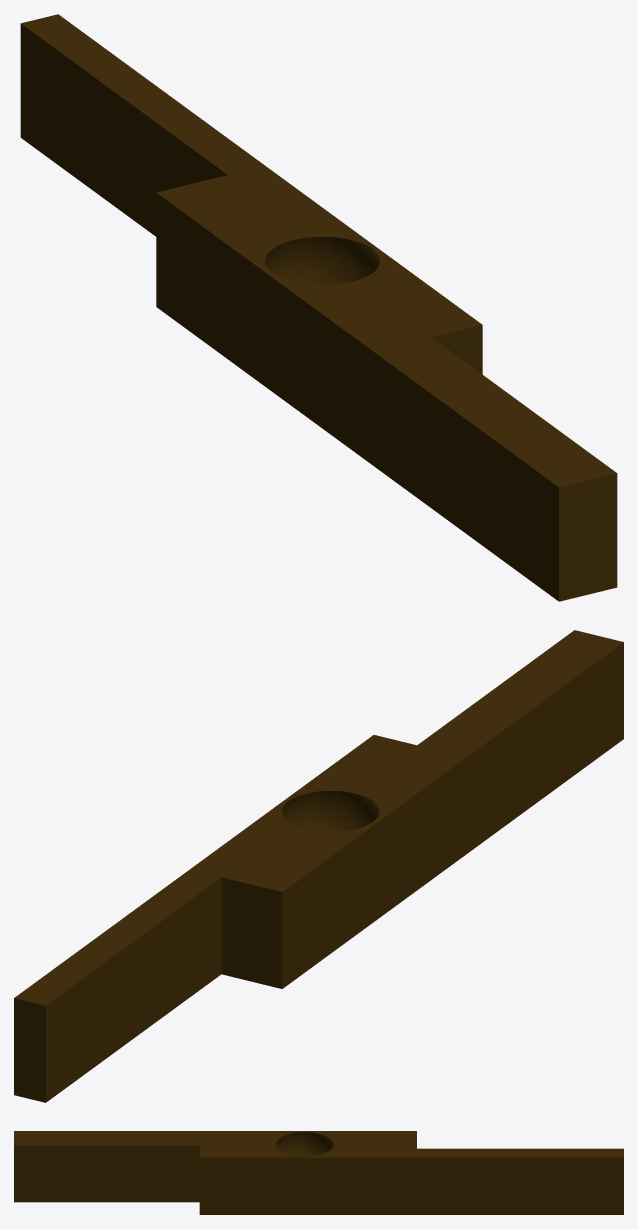
File: Astrolábio.gltf
3 views of the same model, one above another, from view 1: azimuth 30°, elevation 25°; view 2: azimuth 150°, elevation 25°; view 3: azimuth 270°, elevation 25° (orthographic). The views are drawn at different scales.
Visible parts, largest first — view 1: Merged Objects; view 2: Merged Objects; view 3: Merged Objects.
Part boxes in pixels (x1,y1,x2,y2): Merged Objects: (20, 14, 617, 601); Merged Objects: (14, 630, 623, 1102); Merged Objects: (14, 1131, 623, 1214).
Size of the model in its own units: 0.00807 by 0.00807 by 0.078.
